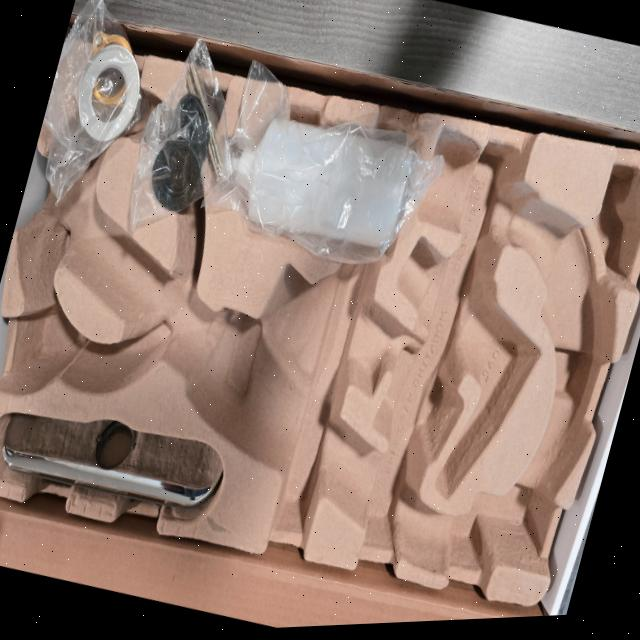1m: (20, 129, 615, 568)
2m: (396, 231, 540, 496)
3o: (212, 116, 417, 251)
4: (0, 413, 223, 506)
5m: (17, 305, 79, 388)
6: (37, 0, 145, 210)
7: (127, 31, 240, 231)
